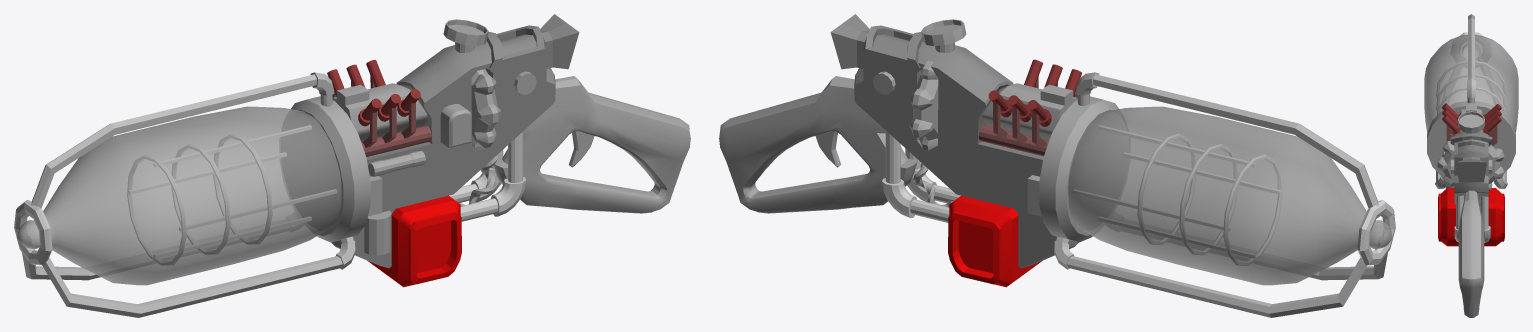
Rendered from nirvana.fbx.
3 renders of one model, left to right at view 1: azimuth 30°, elevation 25°; view 2: azimuth 150°, elevation 25°; view 3: azimuth 270°, elevation 25°, orthographic. The views are drawn at different scales.
Parts seen in each view (by area): view 1: pCylinder4, pCube3, pCube1, group13_pasted__pCylinder7, pCylinder3, pasted__pasted__pCube5, pCube2, polySurface3, pCube4, pGear1, polySurface2, pasted__group2_pasted__pasted__pCylinder2 (+8 smaller); view 2: pCylinder4, pCube3, pCube1, group13_pasted__pCylinder7, pCylinder3, pasted__pasted__pCube5, pCube2, polySurface3, pCube4, pGear1, polySurface2, pasted__group2_pasted__pasted__pCylinder2 (+4 smaller); view 3: pCylinder4, pCube1, pCube3, pCylinder3, pCube2, pGear1, group13_pasted__pCylinder7, pasted__pasted__pCube5, pasted__group2_pasted__pasted__pCylinder2, polySurface3, pCylinder5, polySurface2 (+2 smaller).
Part boxes in pixels (x1,y1,x2,y2): pCylinder4: (17,106,341,285); pCube3: (331,14,579,268); pCube1: (493,76,690,213); group13_pasted__pCylinder7: (22,72,355,317); pCylinder3: (280,96,370,242); pasted__pasted__pCube5: (127,125,336,265); pCube2: (367,195,461,287); polySurface3: (449,131,525,221); pCube4: (332,83,427,140); pGear1: (452,45,501,148); polySurface2: (332,75,431,156); pasted__group2_pasted__pasted__pCylinder2: (327,60,420,126); pCylinder4: (1068,106,1392,285); pCube3: (830,14,1078,268); pCube1: (719,76,917,213); group13_pasted__pCylinder7: (1054,72,1387,317); pCylinder3: (1039,96,1129,242); pasted__pasted__pCube5: (1073,125,1282,265); pCube2: (948,195,1042,287); polySurface3: (882,130,960,222); pCube4: (982,83,1077,140); pGear1: (909,60,938,151); polySurface2: (978,76,1077,156); pasted__group2_pasted__pasted__pCylinder2: (988,59,1081,126); pCylinder4: (1424,35,1518,132); pCube1: (1458,190,1484,317); pCube3: (1450,131,1492,204); pCylinder3: (1427,100,1515,180); pCube2: (1438,188,1504,246); pGear1: (1437,135,1504,190); group13_pasted__pCylinder7: (1435,14,1507,188); pasted__pasted__pCube5: (1436,61,1506,114); pasted__group2_pasted__pasted__pCylinder2: (1442,103,1501,134); polySurface3: (1454,195,1490,242); pCylinder5: (1458,111,1484,133); polySurface2: (1446,125,1497,145).
Size of the model in its own units: 51.76 by 17.12 by 10.21.
